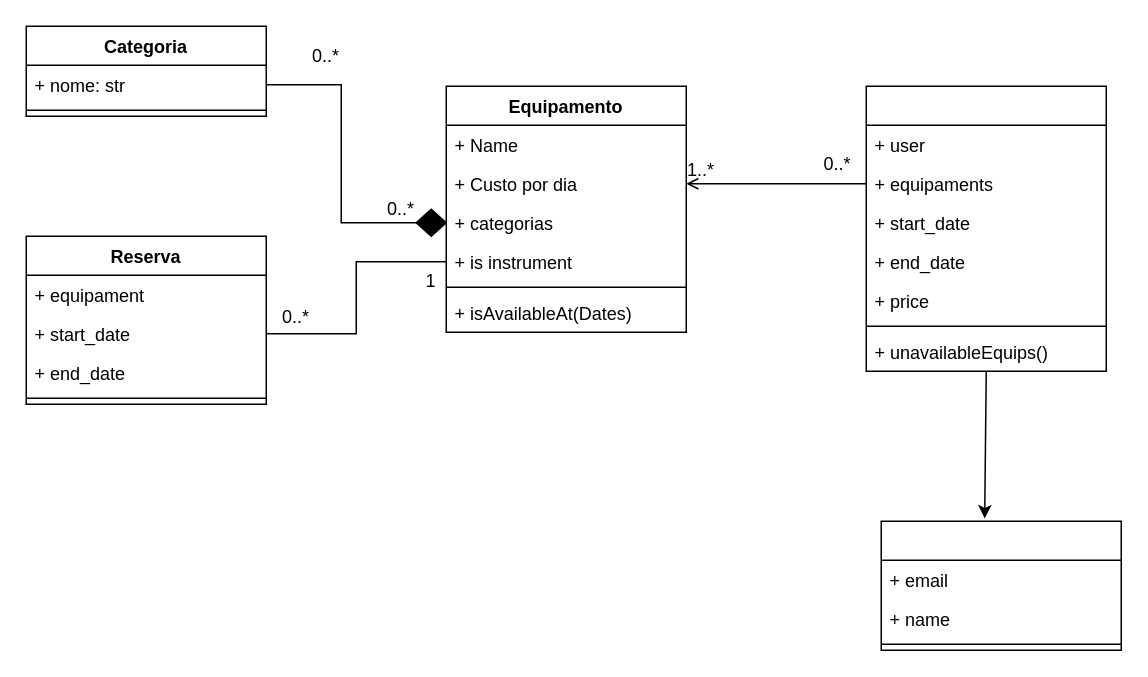
Some shapes in this 1148 by 677 pixel diagram are drawn without their labels. Each missing label, with the box of its shape:
Pedido: (865, 85, 1106, 371)
User: (880, 520, 1121, 650)
